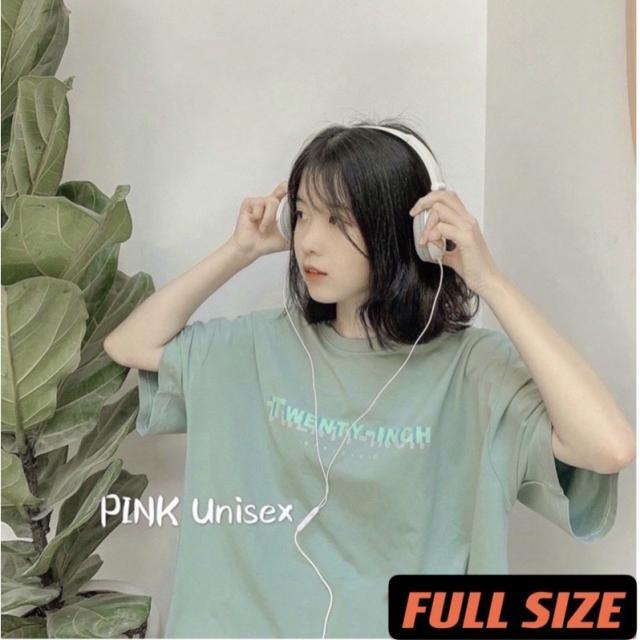Shirt: (146, 306, 615, 636)
